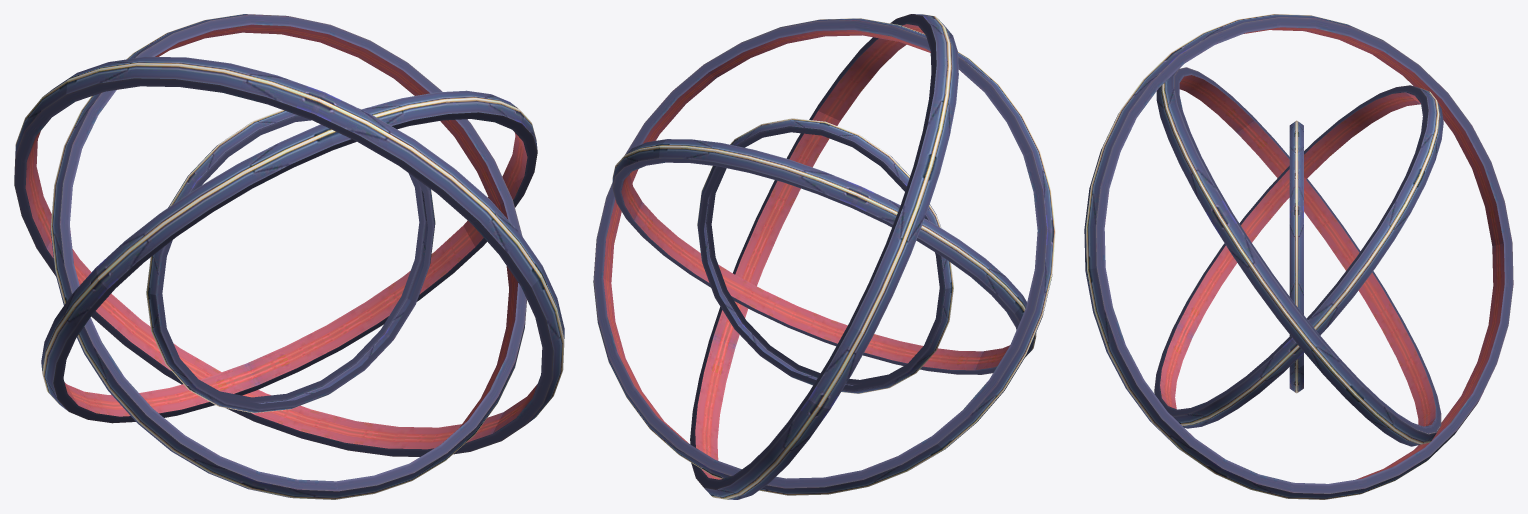
File: Scece_01_tongdao_01.FBX
The picture shows the model from 3 angles, left to right: view 1: azimuth 30°, elevation 25°; view 2: azimuth 150°, elevation 25°; view 3: azimuth 270°, elevation 25°; orthographic projection. The views are drawn at different scales.
Parts seen in each view (by area): view 1: Scece_01_tongdao_01, Scece_01_tongdao_02, Scece_01_tongdao_03, Scece_01_tongdao_04; view 2: Scece_01_tongdao_01, Scece_01_tongdao_02, Scece_01_tongdao_03, Scece_01_tongdao_04; view 3: Scece_01_tongdao_01, Scece_01_tongdao_02, Scece_01_tongdao_03, Scece_01_tongdao_04.
Part boxes in pixels (x1=…): Scece_01_tongdao_01: x1=14, y1=56, x2=564, y2=456; Scece_01_tongdao_02: x1=41, y1=90, x2=537, y2=423; Scece_01_tongdao_03: x1=50, y1=14, x2=526, y2=499; Scece_01_tongdao_04: x1=146, y1=108, x2=435, y2=413; Scece_01_tongdao_01: x1=690, y1=14, x2=958, y2=499; Scece_01_tongdao_02: x1=593, y1=18, x2=1055, y2=495; Scece_01_tongdao_03: x1=612, y1=139, x2=1036, y2=374; Scece_01_tongdao_04: x1=697, y1=118, x2=953, y2=393; Scece_01_tongdao_01: x1=1084, y1=14, x2=1513, y2=499; Scece_01_tongdao_02: x1=1156, y1=67, x2=1441, y2=446; Scece_01_tongdao_03: x1=1154, y1=85, x2=1443, y2=428; Scece_01_tongdao_04: x1=1289, y1=120, x2=1303, y2=393.
Size of the model in its own units: 5.72 by 5.48 by 5.4.
Materials: 1 (1 with a texture image).
